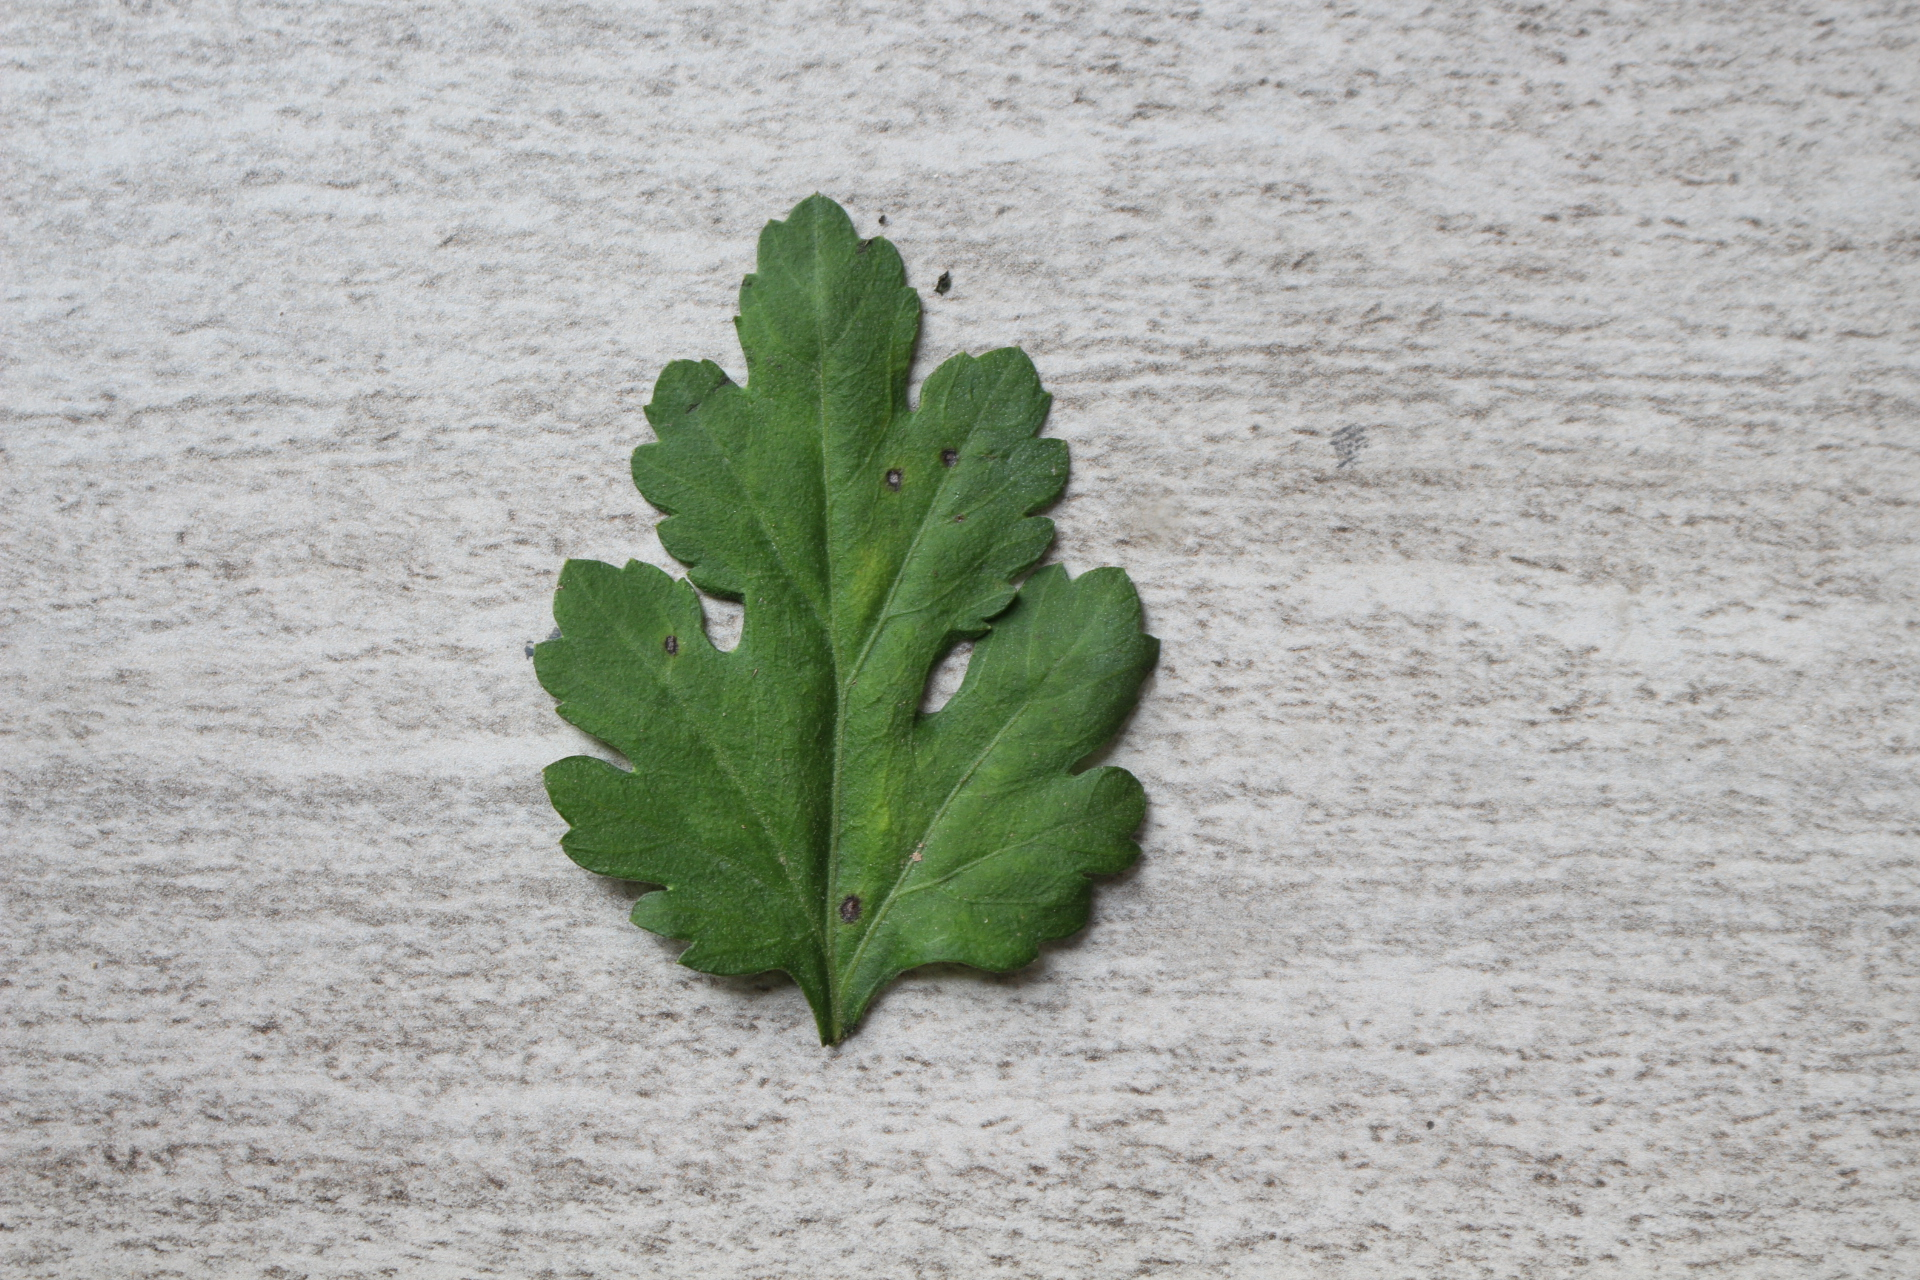namden: (839, 894, 864, 924), (937, 446, 963, 474), (883, 466, 910, 491), (659, 631, 681, 657)
